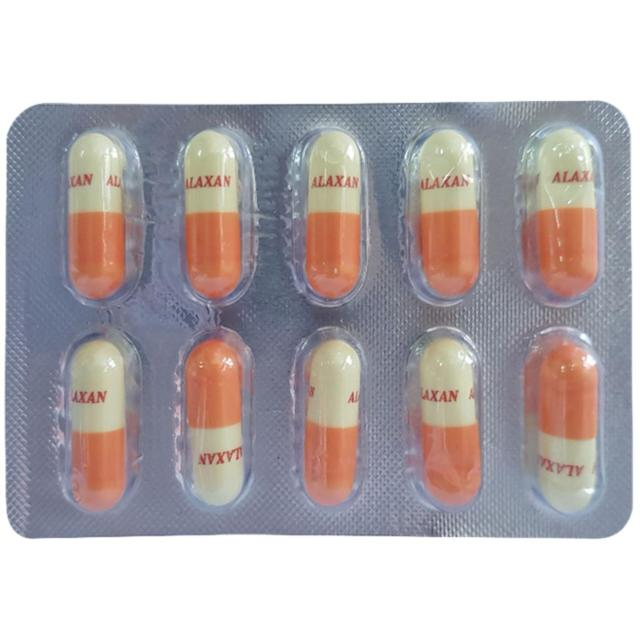blister: (2, 98, 638, 542)
